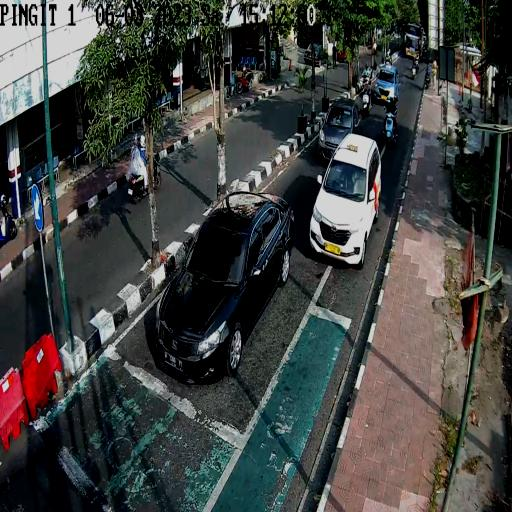mobil: (154, 189, 294, 383), (309, 132, 382, 269), (318, 96, 362, 163), (374, 63, 400, 108)
motor: (127, 154, 162, 204), (384, 109, 397, 149), (361, 88, 372, 118)
